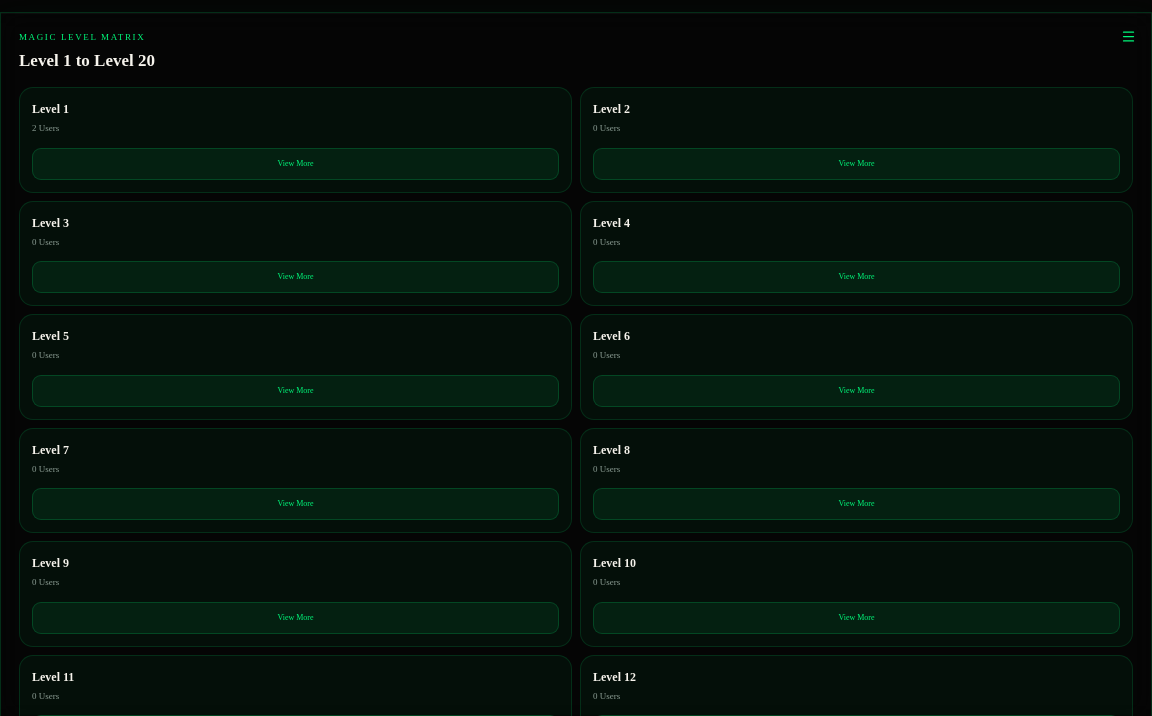
Test: Magic Level structure UI › loads subsequent selected-level pages without replacing existing users
expect the text "2 Users" is shown: met, box top-left (32, 123), bottom-right (59, 133)
Click the 1st button "View More" at (296, 164), box top-left (32, 148), bottom-right (559, 180)
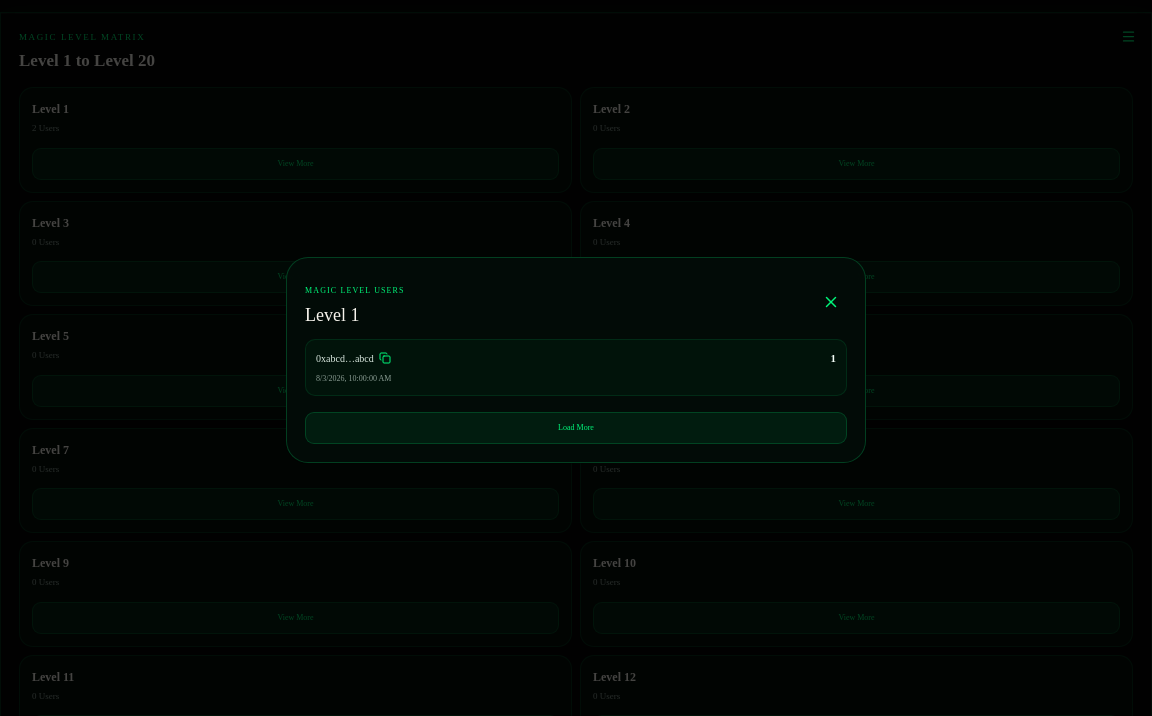
Click the button "Load More" at (576, 428), box top-left (305, 412), bottom-right (847, 444)
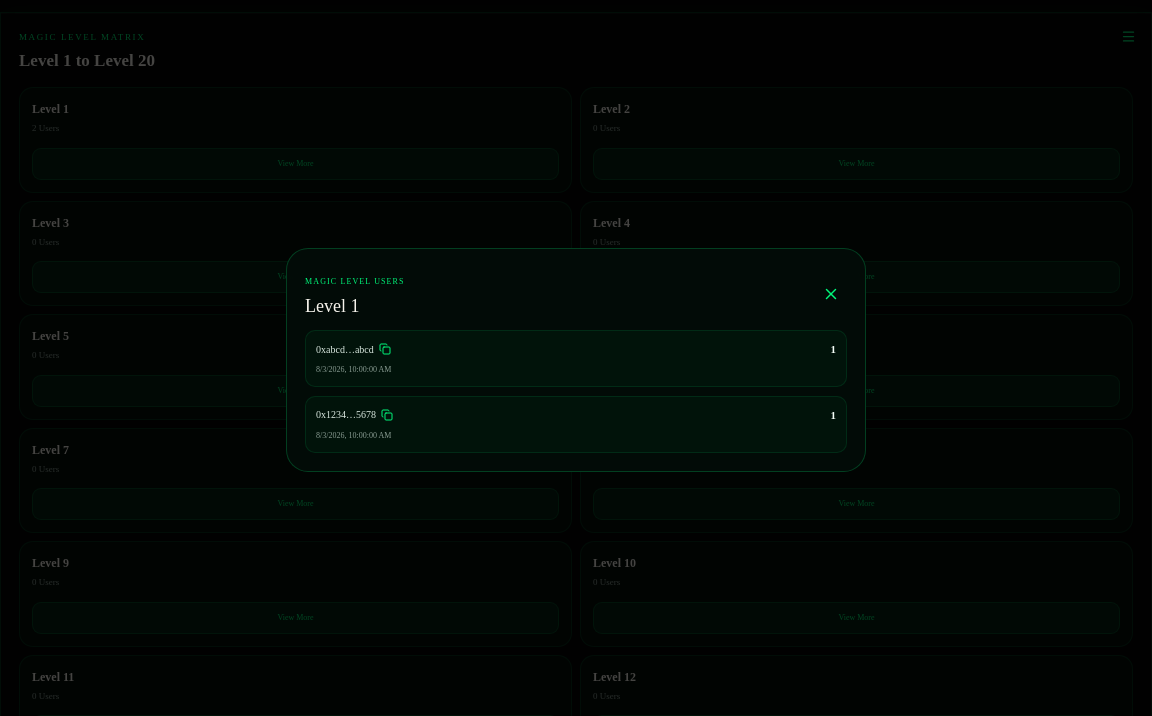
expect the text "0xabcd…abcd" is shown: met, box top-left (316, 342), bottom-right (391, 357)
expect the text "0x1234…5678" is shown: met, box top-left (316, 407), bottom-right (393, 422)
expect the number of elements with class "magic-level-user-card" is 2: met, box top-left (305, 330), bottom-right (847, 388); top-left (305, 396), bottom-right (847, 453)
